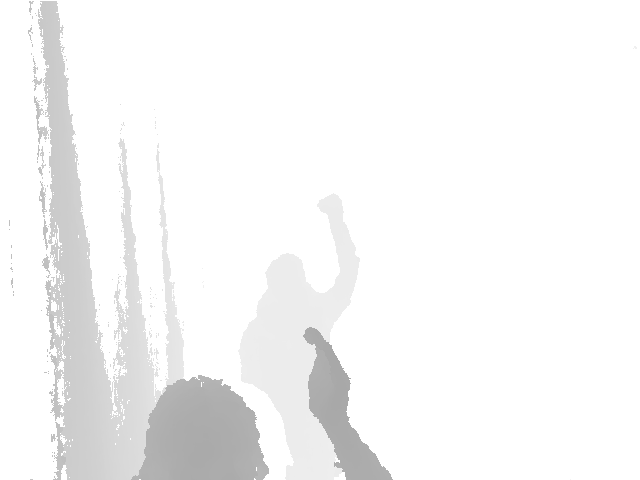hand: (304, 326, 352, 431), (319, 193, 349, 233)
head: (135, 374, 271, 480), (261, 253, 311, 310)
person: (132, 327, 401, 480), (240, 194, 360, 458)
